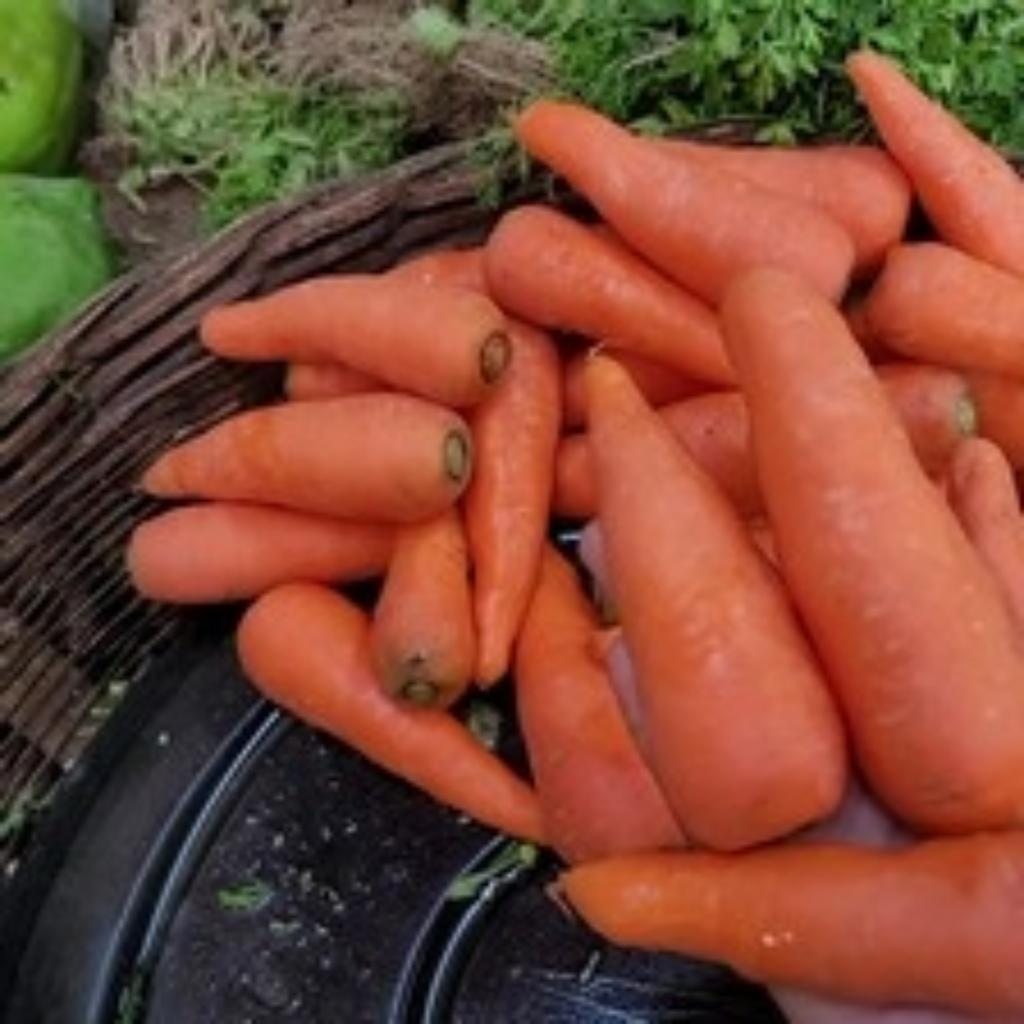carrot: (123, 46, 1015, 1015)
